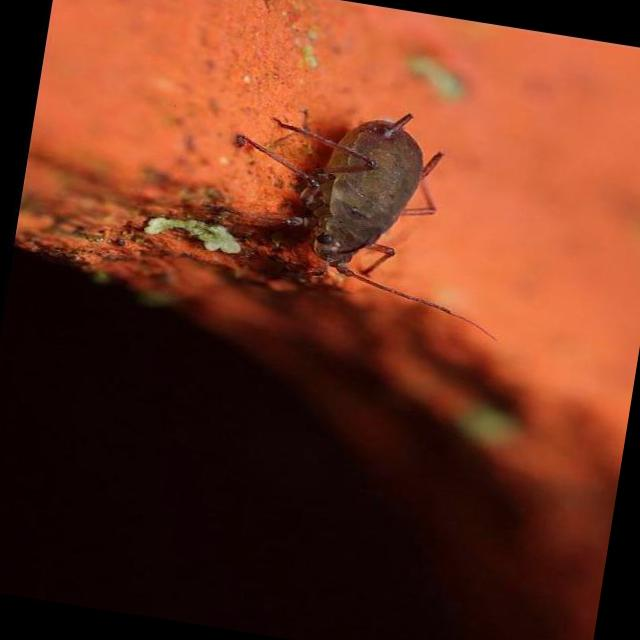aphid: (196, 56, 498, 361)
